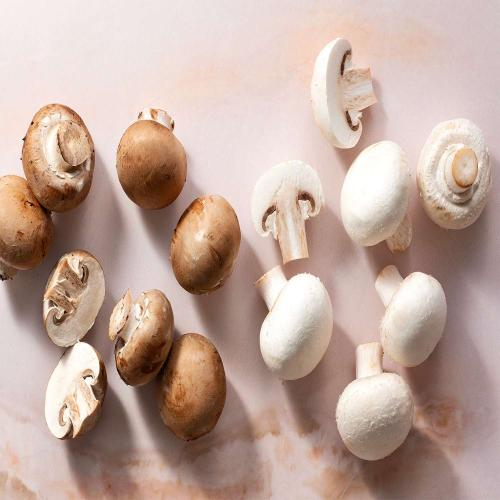Button Mushroom: (326, 337, 429, 468), (240, 155, 338, 268), (158, 186, 252, 303), (298, 33, 386, 154), (15, 100, 101, 216), (253, 262, 336, 381), (414, 117, 493, 231), (35, 336, 116, 446), (339, 140, 413, 253), (36, 245, 111, 351), (155, 333, 226, 440), (116, 108, 187, 209), (376, 265, 446, 366), (108, 289, 174, 386), (0, 175, 52, 280)
